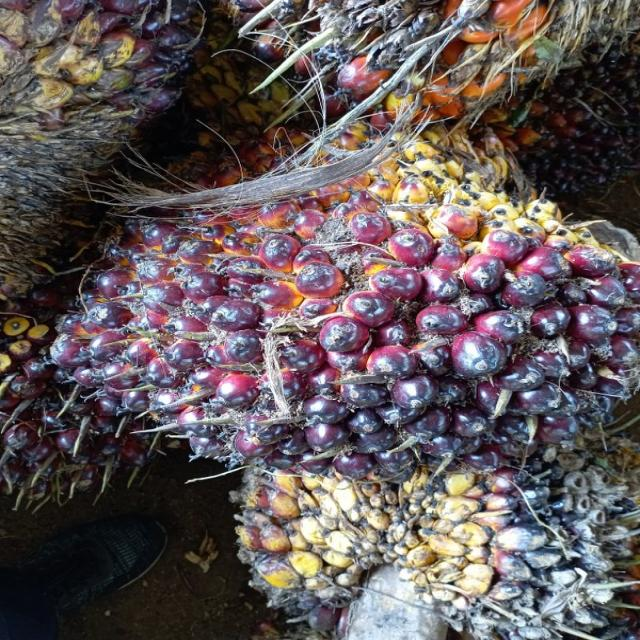fraksi 1: (25, 96, 640, 492)
